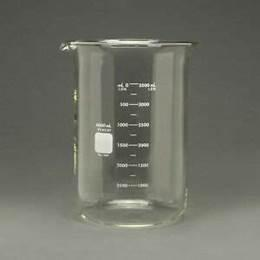Beaker: (60, 33, 199, 235)
